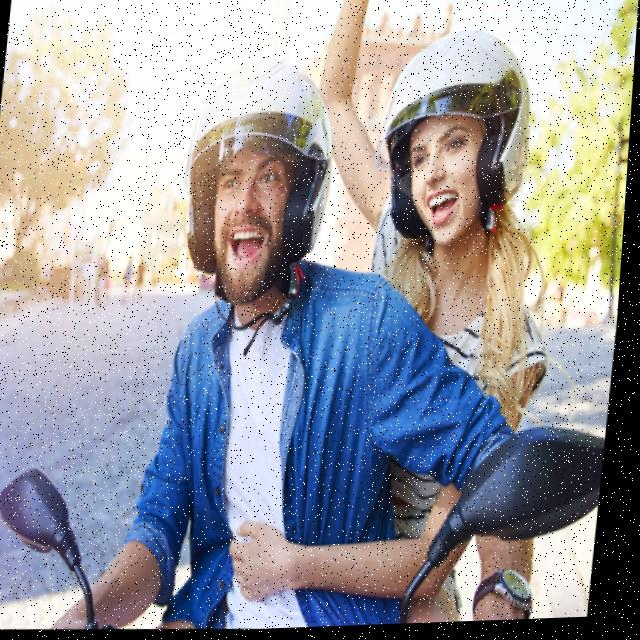helmet: (170, 49, 351, 364), (363, 21, 548, 260)
